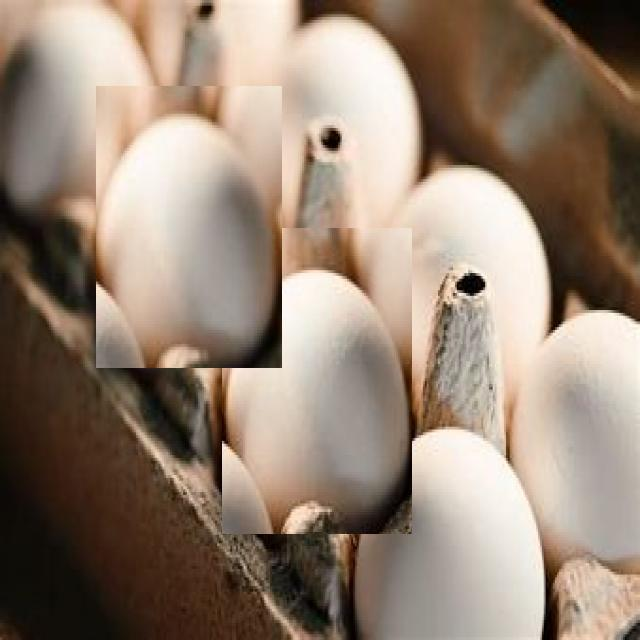Egg: (222, 228, 412, 534), (96, 86, 282, 368)
